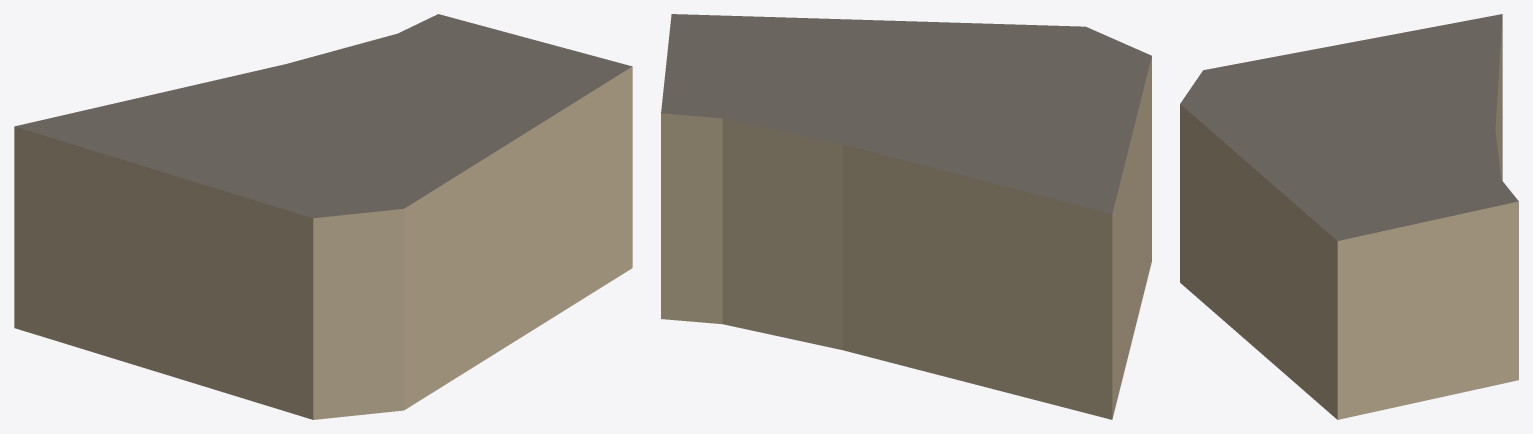
3 renders of one model, left to right at view 1: azimuth 30°, elevation 25°; view 2: azimuth 150°, elevation 25°; view 3: azimuth 270°, elevation 25°, orthographic. The views are drawn at different scales.
Visible parts, largest first — view 1: HP-w369342599; view 2: HP-w369342599; view 3: HP-w369342599.
Part boxes in pixels (left/top/right/bottom): HP-w369342599: left=14, top=14, right=632, bottom=419; HP-w369342599: left=661, top=14, right=1151, bottom=419; HP-w369342599: left=1180, top=14, right=1518, bottom=419.
Size of the model in its own units: 53.93 by 19.8 by 33.99.
